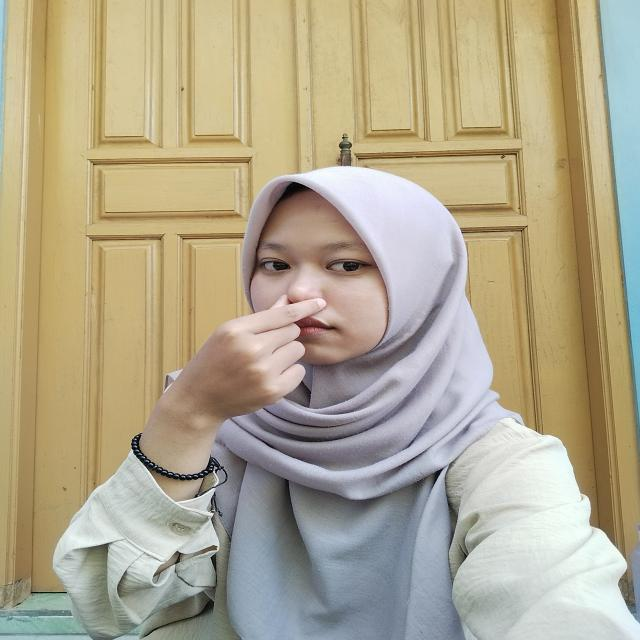bau: (161, 276, 332, 434)
